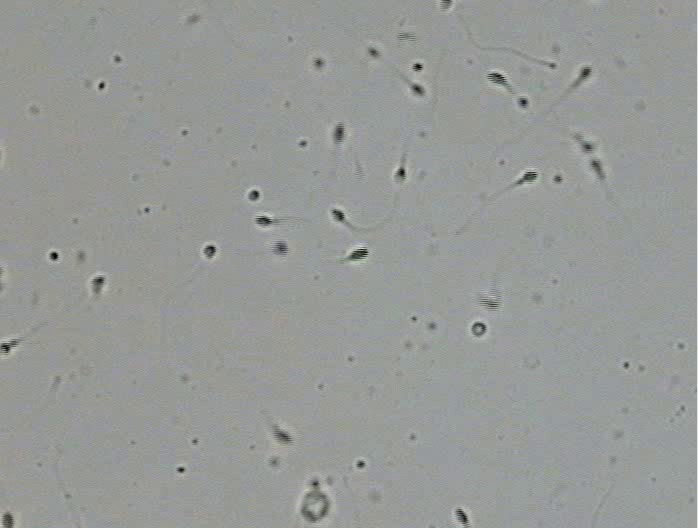Impurity: (300, 478, 330, 522)
S: (272, 426, 292, 444), (270, 239, 289, 257), (454, 507, 470, 527), (479, 296, 500, 311), (347, 247, 369, 261), (486, 72, 507, 86), (333, 122, 346, 144), (90, 275, 105, 294), (518, 171, 537, 184), (471, 322, 487, 336), (254, 215, 272, 227), (578, 66, 592, 81), (1, 512, 14, 528), (393, 167, 406, 183), (396, 32, 416, 42), (330, 209, 345, 222), (203, 245, 216, 258), (411, 84, 425, 96), (517, 96, 529, 110), (590, 160, 602, 173), (248, 189, 260, 201), (580, 142, 593, 153), (1, 341, 11, 354), (439, 1, 452, 11), (367, 47, 379, 56), (411, 63, 423, 72), (314, 59, 322, 68)
